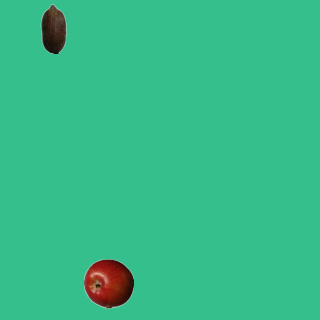Apple Braeburn: (83, 258, 133, 308)
Nut Pecan: (28, 3, 78, 53)
